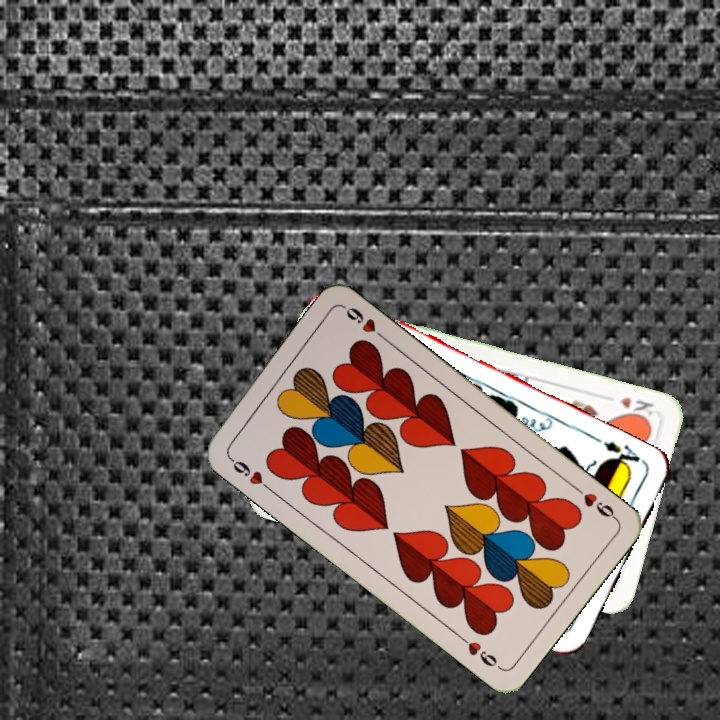EA: (599, 437, 648, 472)
H9: (224, 452, 274, 494), (569, 482, 620, 523)
HK: (616, 392, 656, 424)
